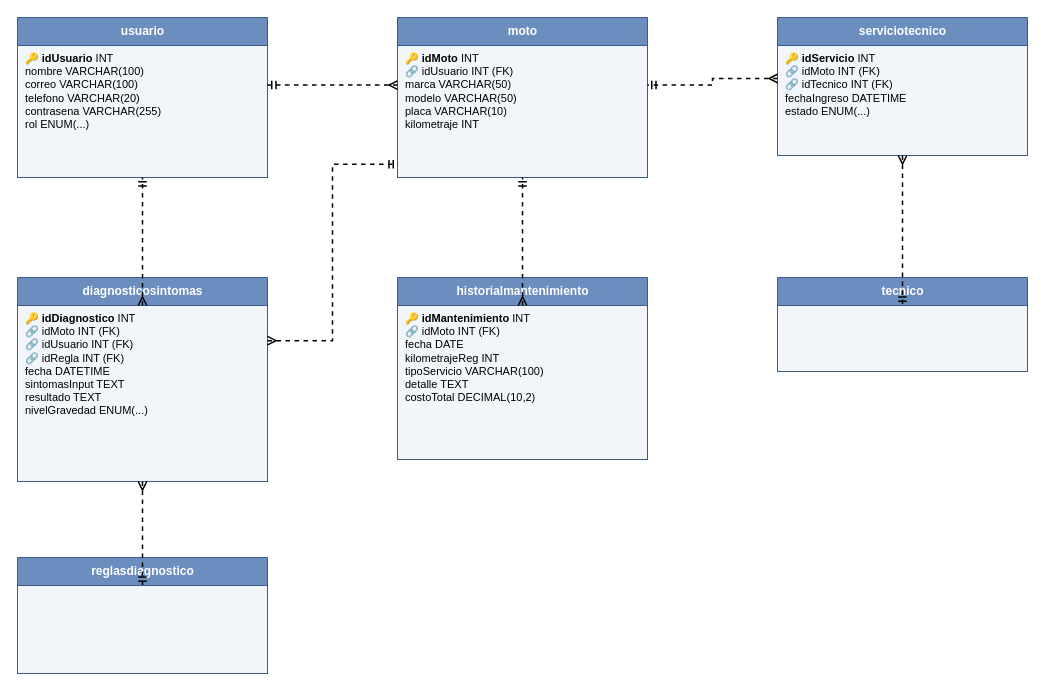
Some shapes in this 1045 by 694 pixel diagram are drawn without their labels. Each missing label, with the centre of its shape:
"🔑 idRegla INT sintomaClave VARCHAR(150) causaProbable TEXT solucionSugerida TEXT" belongs at [142,629].
"🔑 idTecnico INT nombre VARCHAR(100) especialidad VARCHAR(100)" belongs at [902,338].
